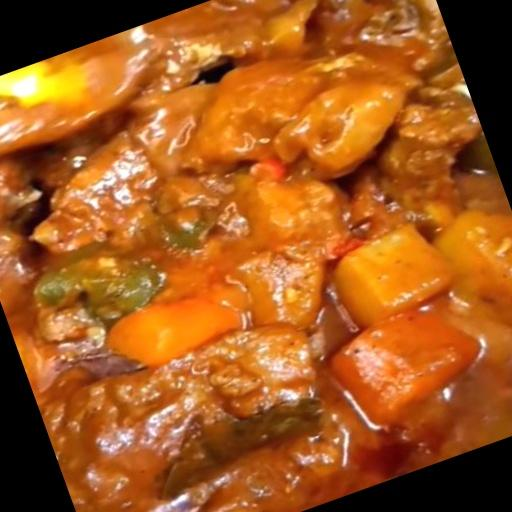pork caldereta: (0, 0, 511, 511)
